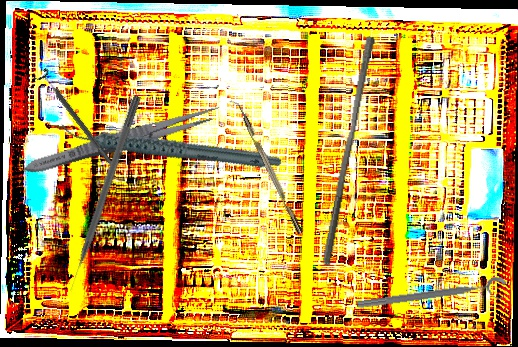Chopper: (227, 96, 304, 238)
Dressing Forceps: (20, 100, 224, 180)
Fixation Ring: (32, 66, 119, 170), (356, 275, 508, 321)
Handpiece: (57, 78, 285, 212)
Pusher: (64, 94, 142, 293), (321, 34, 376, 268)
